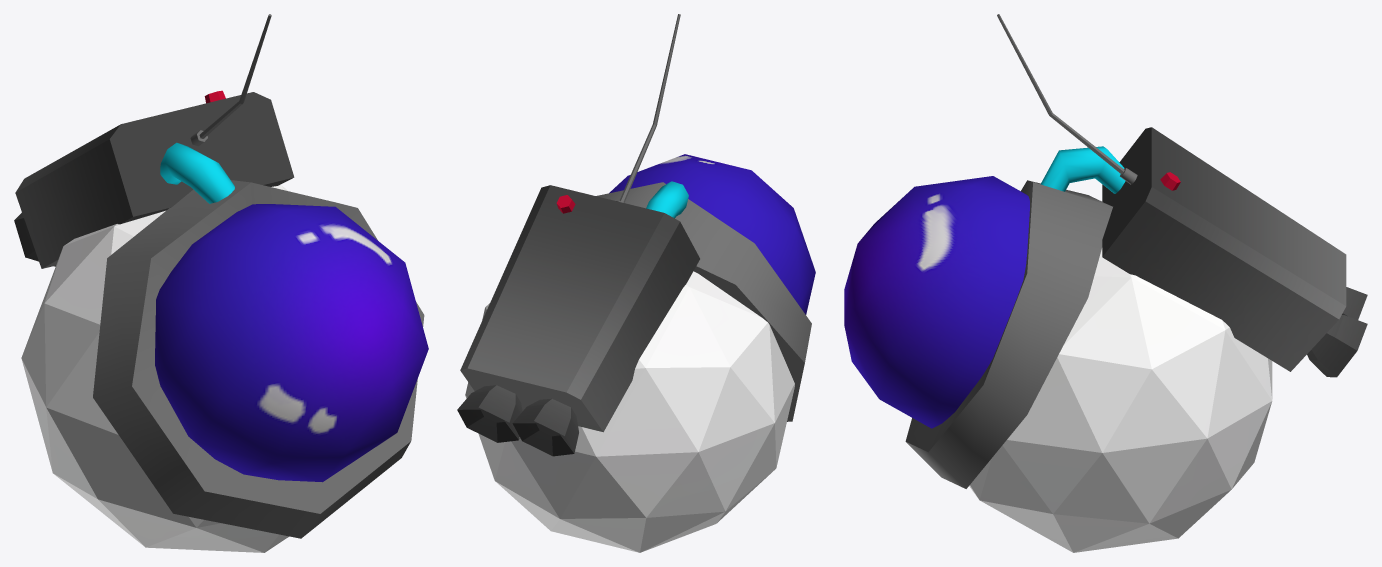
File: moutonaute.FBX
3 renders of one model, left to right at view 1: azimuth 30°, elevation 25°; view 2: azimuth 150°, elevation 25°; view 3: azimuth 270°, elevation 25°, orthographic. The views are drawn at different scales.
Parts seen in each view (by area): view 1: combinaison, casque; view 2: combinaison, casque; view 3: combinaison, casque.
Part boxes in pixels (box(x1,y1,x2,y2)): combinaison: box(14, 14, 424, 552); casque: box(155, 204, 428, 482); combinaison: box(457, 14, 811, 552); casque: box(609, 154, 815, 314); combinaison: box(905, 14, 1367, 552); casque: box(844, 176, 1029, 428).
Size of the model in its own units: 1.2 by 1.95 by 1.76.
